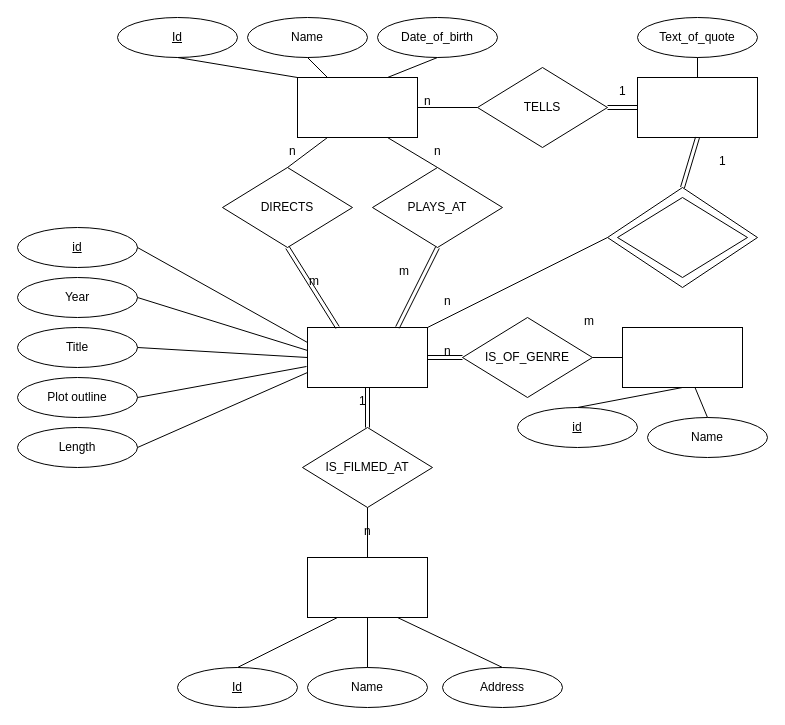
Some shapes in this 785 by 725 pixel diagram are drawn without their labels. The centre of each missing label's shape, as x and y in pixels:
"APPEARS_IN" goes at point 682,237.
"GENRE" goes at point 682,357.
"MOVIE" goes at point 367,357.
"PERSON" goes at point 357,107.
"PRODUCTION COMPANY" goes at point 367,587.
"QUOTE" goes at point 697,107.
